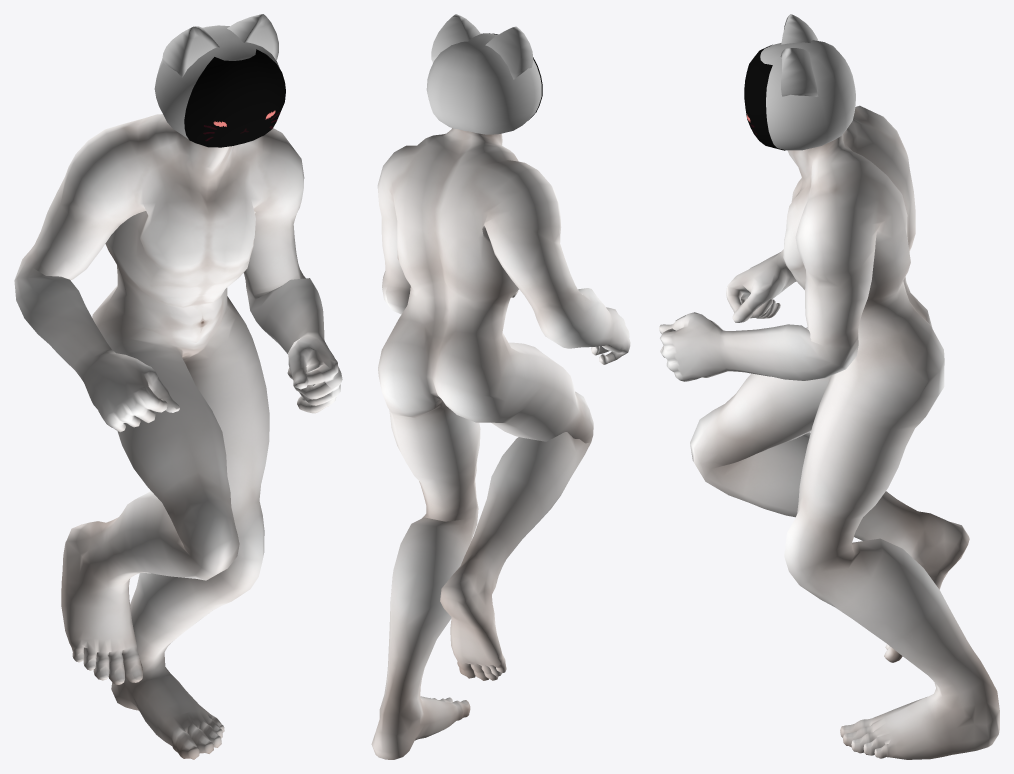
The picture shows the model from 3 angles, left to right: view 1: azimuth 30°, elevation 25°; view 2: azimuth 150°, elevation 25°; view 3: azimuth 270°, elevation 25°; orthographic projection. The views are drawn at different scales.
Parts seen in each view (by area): view 1: Muscle_Body, ______?001, Cat_Head; view 2: Muscle_Body, Cat_Head; view 3: Muscle_Body, Cat_Head, ______?001.
Part boxes in pixels (box(x1,y1,x2,y2)): Muscle_Body: box(14, 114, 342, 759); ______?001: box(184, 49, 285, 147); Cat_Head: box(154, 14, 280, 138); Muscle_Body: box(371, 128, 630, 759); Cat_Head: box(426, 14, 541, 134); Muscle_Body: box(659, 105, 999, 759); Cat_Head: box(760, 14, 855, 150); ______?001: box(744, 44, 785, 150).
Size of the model in its own units: 9.67 by 26.85 by 11.62.
